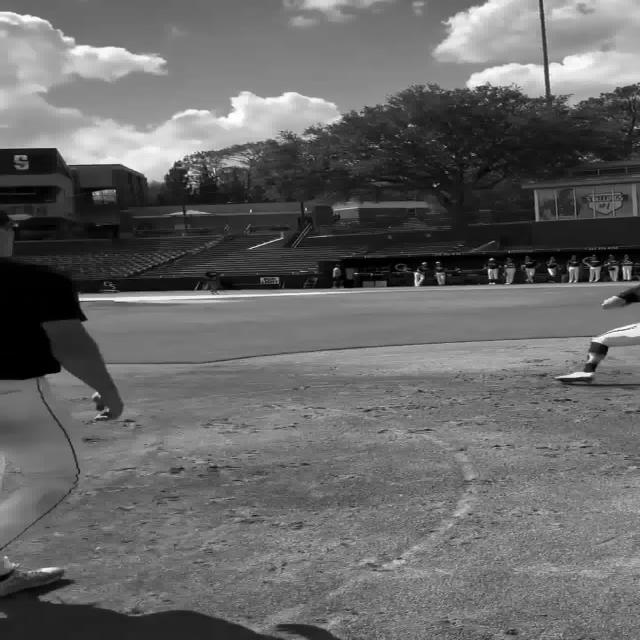shoe: (0, 568, 64, 596), (556, 371, 596, 382)
